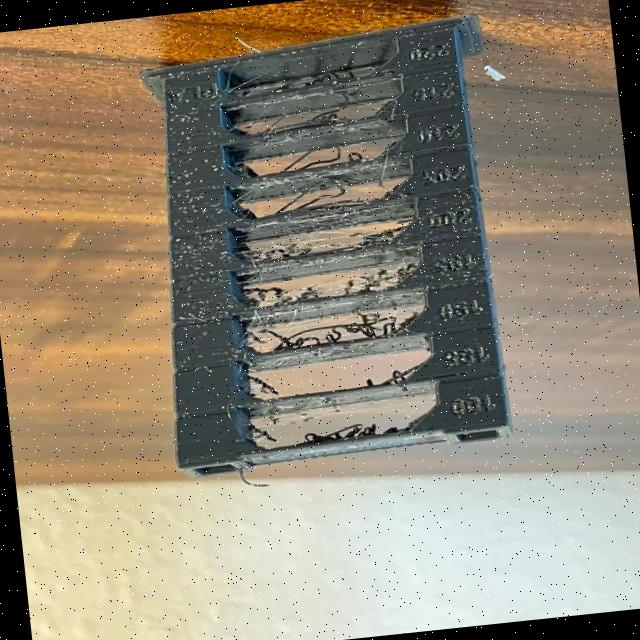stringing: (250, 308, 408, 345), (270, 268, 382, 302), (261, 231, 374, 252)
